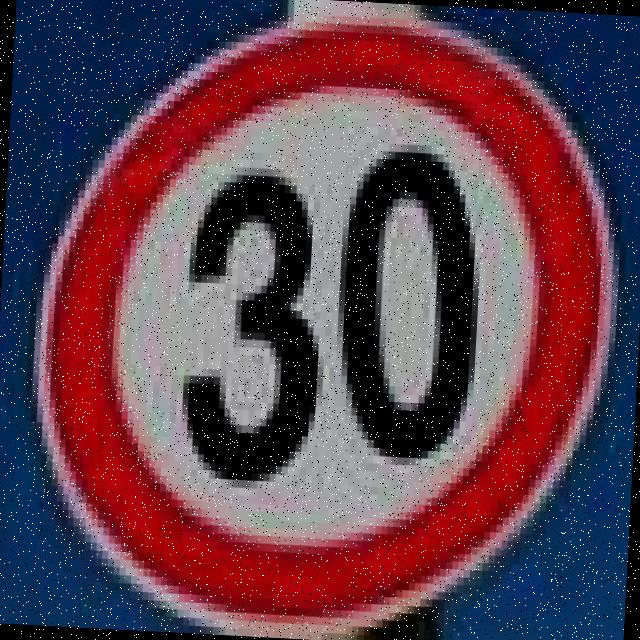Ograniczenie predkosci do 30: (8, 0, 607, 640)
